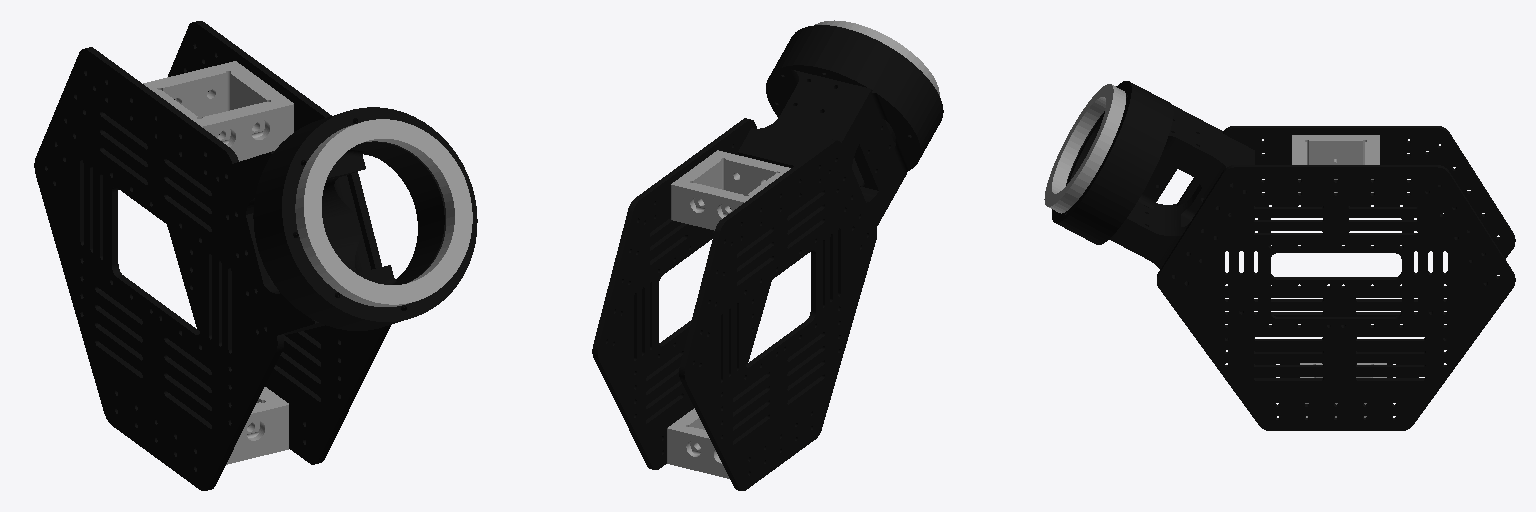
URDF robot description (urdf_test):
<!--URDF generated by ONSHAPE BY PTC INC, 1.217-->
<robot name="urdf_test">
    <link name="6815_bearing_plate_v4">
        <inertial>
            <mass value="7.53687e-06" />
            <origin xyz="0.05 -0.05 -0.001" rpy="0 -0 0" />
            <inertia ixx="9.10586e-09" ixy="0" ixz="0" iyy="9.10586e-09" iyz="0" izz="1.82067e-08" />
        </inertial>
        <visual>
            <origin xyz="0 0 0" rpy="0 -0 0" />
            <geometry>
                <mesh filename="package://orex_description/meshes/_6815_bearing_plate_v4.stl" scale="1 1 1" />
            </geometry>
            <material name="0.098039_0.098039_0.098039_0.000000_0.000000">
                <color rgba="0.0980392 0.0980392 0.0980392 1" />
            </material>
        </visual>
    </link>
    <link name="6815_bearing_v2">
        <inertial>
            <mass value="2.67035e-05" />
            <origin xyz="0.025 -0.025 -0.005" rpy="0 -0 0" />
            <inertia ixx="2.4673e-08" ixy="0" ixz="0" iyy="2.4673e-08" iyz="0" izz="4.89009e-08" />
        </inertial>
        <visual>
            <origin xyz="0 0 0" rpy="0 -0 0" />
            <geometry>
                <mesh filename="package://orex_description/meshes/_6815_bearing_v2.stl" scale="1 1 1" />
            </geometry>
            <material name="0.627451_0.627451_0.627451_0.000000_0.000000">
                <color rgba="0.627451 0.627451 0.627451 1" />
            </material>
        </visual>
    </link>
    <link name="chest_plate_holder_v2_v2">
        <inertial>
            <mass value="4.58288e-05" />
            <origin xyz="0.025 0.03 0.00242516" rpy="0 -0 0" />
            <inertia ixx="2.32707e-08" ixy="0" ixz="0" iyy="2.17071e-08" iyz="0" izz="3.99381e-08" />
        </inertial>
        <visual>
            <origin xyz="-0.02 0.065 0.04" rpy="0 -0 0" />
            <geometry>
                <mesh filename="package://orex_description/meshes/chest_plate_holder_v2_v2.stl" scale="1 1 1" />
            </geometry>
            <material name="0.627451_0.627451_0.627451_0.000000_0.000000">
                <color rgba="0.627451 0.627451 0.627451 1" />
            </material>
        </visual>
    </link>
    <link name="chest_plate_holder_v2_v2_1">
        <inertial>
            <mass value="4.58288e-05" />
            <origin xyz="1.56012e-11 3.27421e-11 1.10243" rpy="0 -0 0" />
            <inertia ixx="2.32707e-08" ixy="0" ixz="0" iyy="2.17071e-08" iyz="0" izz="3.99381e-08" />
        </inertial>
        <visual>
            <origin xyz="-0.045 0.035 1.14" rpy="0 -0 0" />
            <geometry>
                <mesh filename="package://orex_description/meshes/chest_plate_holder_v2_v2.stl" scale="1 1 1" />
            </geometry>
            <material name="0.627451_0.627451_0.627451_0.000000_0.000000">
                <color rgba="0.627451 0.627451 0.627451 1" />
            </material>
        </visual>
    </link>
    <link name="hrc5_torso_plate_v1">
        <inertial>
            <mass value="0.00011709" />
            <origin xyz="0.0198982 0.002 -0.0954423" rpy="0 -0 0" />
            <inertia ixx="3.75322e-07" ixy="0" ixz="5.88178e-10" iyy="8.14032e-07" iyz="0" izz="4.39022e-07" />
        </inertial>
        <visual>
            <origin xyz="-0.105 0 -0.215" rpy="0 -0 0" />
            <geometry>
                <mesh filename="package://orex_description/meshes/hrc5_torso_plate_v1.stl" scale="1 1 1" />
            </geometry>
            <material name="0.098039_0.098039_0.098039_0.000000_0.000000">
                <color rgba="0.0980392 0.0980392 0.0980392 1" />
            </material>
        </visual>
    </link>
    <link name="hrc5_torso_plate_v1_1">
        <inertial>
            <mass value="0.00011709" />
            <origin xyz="0.0198982 -0.002 -0.0954423" rpy="0 -0 0" />
            <inertia ixx="3.75322e-07" ixy="0" ixz="5.88178e-10" iyy="8.14032e-07" iyz="0" izz="4.39022e-07" />
        </inertial>
        <visual>
            <origin xyz="-0.105 -0.004 -0.215" rpy="0 -0 0" />
            <geometry>
                <mesh filename="package://orex_description/meshes/hrc5_torso_plate_v1.stl" scale="1 1 1" />
            </geometry>
            <material name="0.098039_0.098039_0.098039_0.000000_0.000000">
                <color rgba="0.0980392 0.0980392 0.0980392 1" />
            </material>
        </visual>
    </link>
    <link name="root" />
    <link name="shoul_base_v4_v10">
        <inertial>
            <mass value="0.000367685" />
            <origin xyz="0.09 0.01405 -0.033328" rpy="0 -0 0" />
            <inertia ixx="6.25935e-07" ixy="2.17455e-15" ixz="0" iyy="6.20185e-07" iyz="-4.65484e-09" izz="7.58217e-07" />
        </inertial>
        <visual>
            <origin xyz="0 0 0" rpy="0 -0 0" />
            <geometry>
                <mesh filename="package://orex_description/meshes/shoul_base_v4_v10.stl" scale="1 1 1" />
            </geometry>
            <material name="0.098039_0.098039_0.098039_0.000000_0.000000">
                <color rgba="0.0980392 0.0980392 0.0980392 1" />
            </material>
        </visual>
    </link>
    <joint name="fastened_1" type="fixed">
        <origin xyz="-0.005 6.93889e-18 -0.17" rpy="-3.14159 8.54101e-16 4.67631e-17" />
        <axis xyz="-0 -1 -0" />
        <parent link="hrc5_torso_plate_v1" />
        <child link="chest_plate_holder_v2_v2" />
    </joint>
    <joint name="fastened_2" type="fixed">
        <origin xyz="-0.025 -0.03 1.1" rpy="-3.14159 -2.72345e-14 -1.40577e-29" />
        <axis xyz="-0 -1 -0" />
        <parent link="chest_plate_holder_v2_v2_1" />
        <child link="hrc5_torso_plate_v1" />
    </joint>
    <joint name="fastened_3" type="fixed">
        <origin xyz="-0.025 0.03 1.1" rpy="-3.14159 -2.46358e-14 -1.32689e-29" />
        <axis xyz="0 1 0" />
        <parent link="chest_plate_holder_v2_v2_1" />
        <child link="hrc5_torso_plate_v1_1" />
    </joint>
    <joint name="fastened_8" type="fixed">
        <origin xyz="0 0 -2.22045e-16" rpy="-2.81131e-14 -2.81131e-14 1.5708" />
        <axis xyz="-0 -0 -1" />
        <parent link="root" />
        <child link="chest_plate_holder_v2_v2_1" />
    </joint>
    <joint name="group_1_fastened_joint" type="fixed">
        <origin xyz="0.065 0.0734 -0.055" rpy="-1.5708 8.99298e-14 5.19029e-15" />
        <axis xyz="-0 -0 -1" />
        <parent link="shoul_base_v4_v10" />
        <child link="6815_bearing_v2" />
    </joint>
    <joint name="group_1_fastened_joint_1" type="fixed">
        <origin xyz="-0.025 0.025 -0.01" rpy="-3.93782e-16 3.60822e-15 2.78858e-15" />
        <axis xyz="-0 -0 -1" />
        <parent link="6815_bearing_v2" />
        <child link="6815_bearing_plate_v4" />
    </joint>
    <joint name="group_1_fastened_joint_2" type="fixed">
        <origin xyz="-0.13799 3.1225e-16 -0.0762564" rpy="-1.5708 1.0472 2.55351e-15" />
        <axis xyz="-0 -0 -1" />
        <parent link="hrc5_torso_plate_v1" />
        <child link="shoul_base_v4_v10" />
    </joint>
</robot>

--- What the picture shows (computed from the rendered views, not written in the file) ---
Views: 3 orthographic renders of the robot side by side, from view 1: azimuth 30°, elevation 25°; view 2: azimuth 150°, elevation 25°; view 3: azimuth 270°, elevation 25°.
Robot: urdf_test — 8 links, 7 joints (7 fixed); root link root; default pose: all joints at 0.
Visible links, largest first — view 1: hrc5_torso_plate_v1_1, shoul_base_v4_v10, hrc5_torso_plate_v1, 6815_bearing_v2, chest_plate_holder_v2_v2, 6815_bearing_plate_v4, chest_plate_holder_v2_v2_1; view 2: hrc5_torso_plate_v1_1, shoul_base_v4_v10, hrc5_torso_plate_v1, chest_plate_holder_v2_v2, chest_plate_holder_v2_v2_1, 6815_bearing_v2; view 3: hrc5_torso_plate_v1, shoul_base_v4_v10, hrc5_torso_plate_v1_1, 6815_bearing_v2, chest_plate_holder_v2_v2, 6815_bearing_plate_v4.
Link boxes in pixels (left/top/right/bottom): hrc5_torso_plate_v1_1: left=34, top=47, right=283, bottom=490; shoul_base_v4_v10: left=233, top=114, right=445, bottom=335; hrc5_torso_plate_v1: left=167, top=21, right=390, bottom=464; 6815_bearing_v2: left=295, top=119, right=472, bottom=306; chest_plate_holder_v2_v2: left=143, top=61, right=293, bottom=161; 6815_bearing_plate_v4: left=280, top=107, right=477, bottom=322; chest_plate_holder_v2_v2_1: left=226, top=387, right=288, bottom=464; hrc5_torso_plate_v1_1: left=679, top=139, right=876, bottom=490; shoul_base_v4_v10: left=738, top=27, right=941, bottom=227; hrc5_torso_plate_v1: left=592, top=118, right=771, bottom=469; chest_plate_holder_v2_v2: left=671, top=150, right=790, bottom=230; chest_plate_holder_v2_v2_1: left=667, top=408, right=729, bottom=478; 6815_bearing_v2: left=815, top=20, right=939, bottom=95; hrc5_torso_plate_v1: left=1157, top=165, right=1515, bottom=430; shoul_base_v4_v10: left=1060, top=84, right=1254, bottom=282; hrc5_torso_plate_v1_1: left=1177, top=126, right=1515, bottom=377; 6815_bearing_v2: left=1044, top=84, right=1125, bottom=213; chest_plate_holder_v2_v2: left=1292, top=135, right=1379, bottom=192; 6815_bearing_plate_v4: left=1052, top=81, right=1133, bottom=224.
Bounding box of the posed robot: 0.1098 × 0.3236 × 0.2435 m (x, y, z).
Meshes: 5 distinct files referenced, 7 mesh visuals loaded (5 binary STL).
